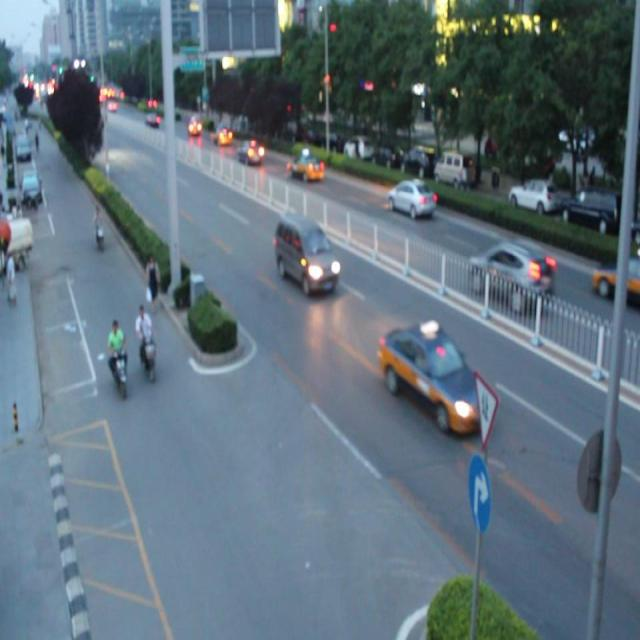car: (379, 320, 490, 430), (469, 237, 553, 311), (590, 247, 640, 307), (386, 174, 436, 218), (287, 150, 324, 184), (237, 138, 264, 167), (212, 123, 232, 145), (188, 115, 201, 136)
truck: (274, 210, 338, 296)
